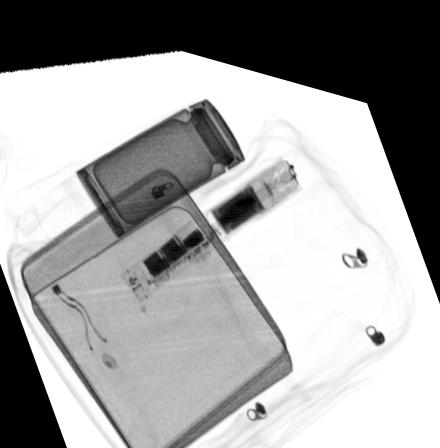Baton: (117, 136, 303, 296)
